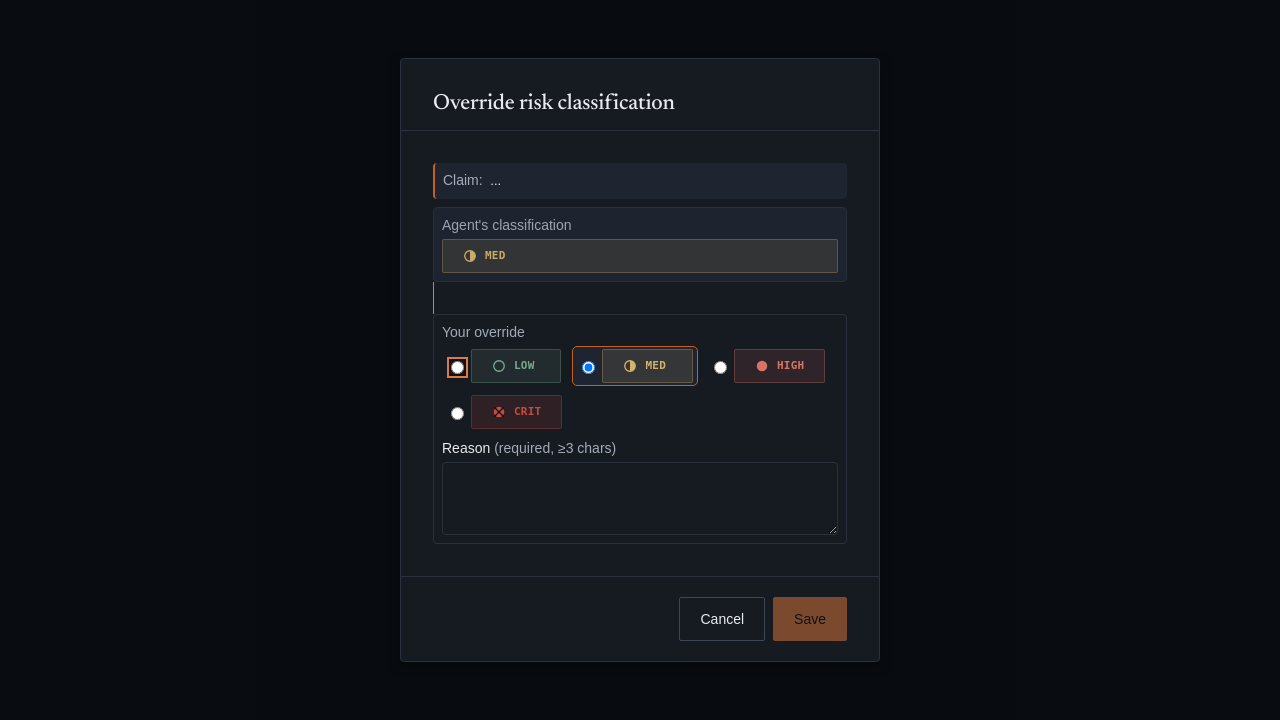
Test case: <M1ReviewerModal> › disables Save until reason is ≥3 characters
The image size is (1280, 720).
Expected: the button "Save" is disabled, left=773, top=597, right=847, bottom=641
Type "ab" into the text box with test id "m1-reason" at (640, 499), box left=442, top=462, right=838, bottom=535
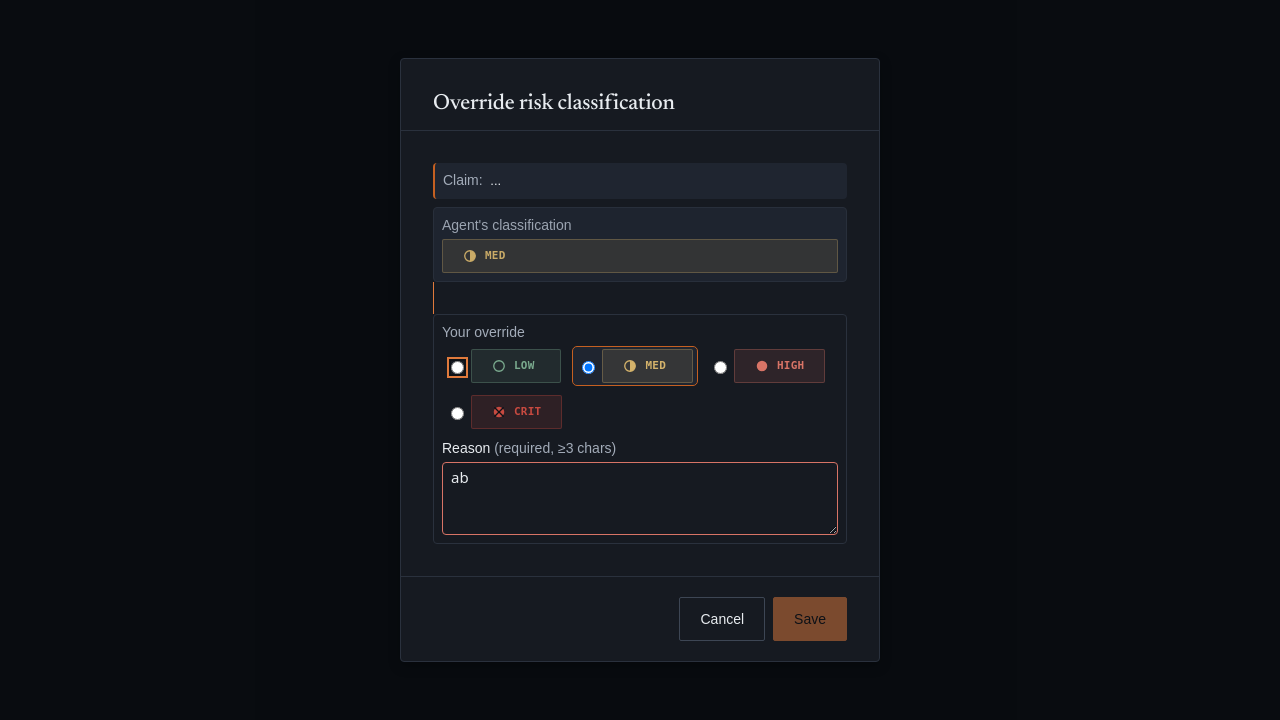
Expected: the button "Save" is disabled, left=773, top=597, right=847, bottom=641
Replace the text in the text box with test id "m1-reason" with "abc" at (640, 499), box left=442, top=462, right=838, bottom=535
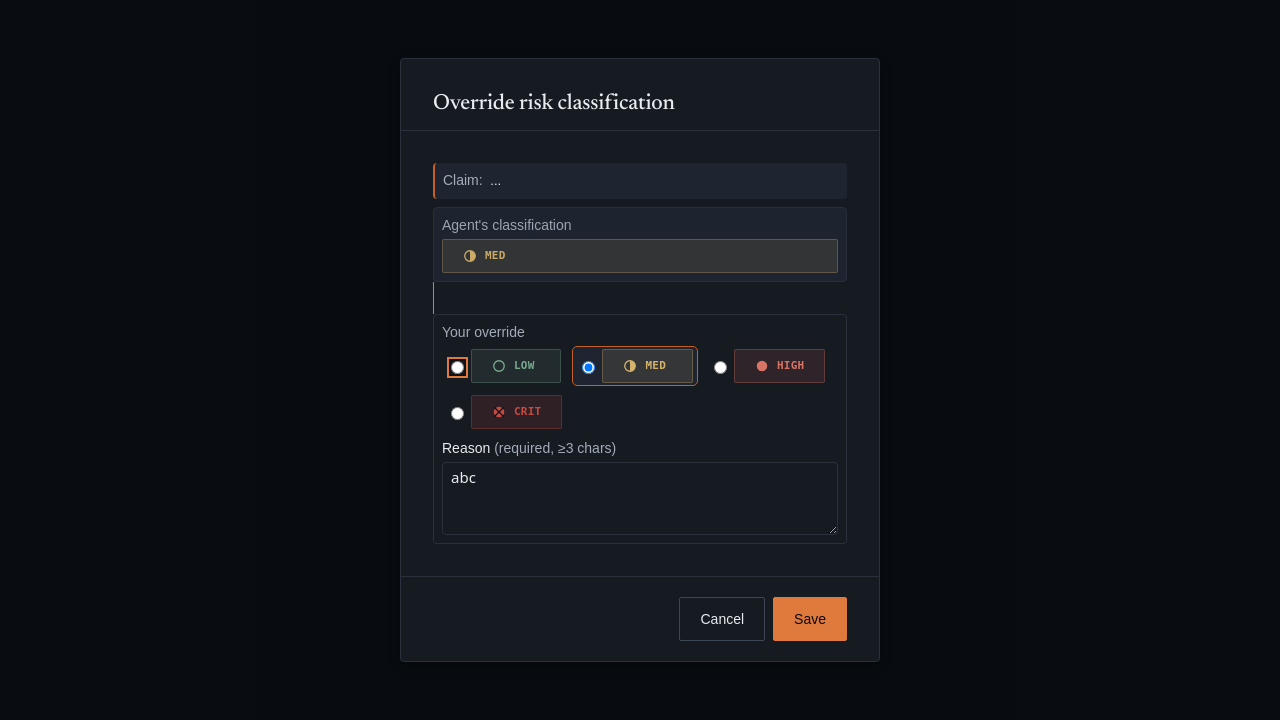
Expected: the button "Save" is enabled, left=773, top=597, right=847, bottom=641
